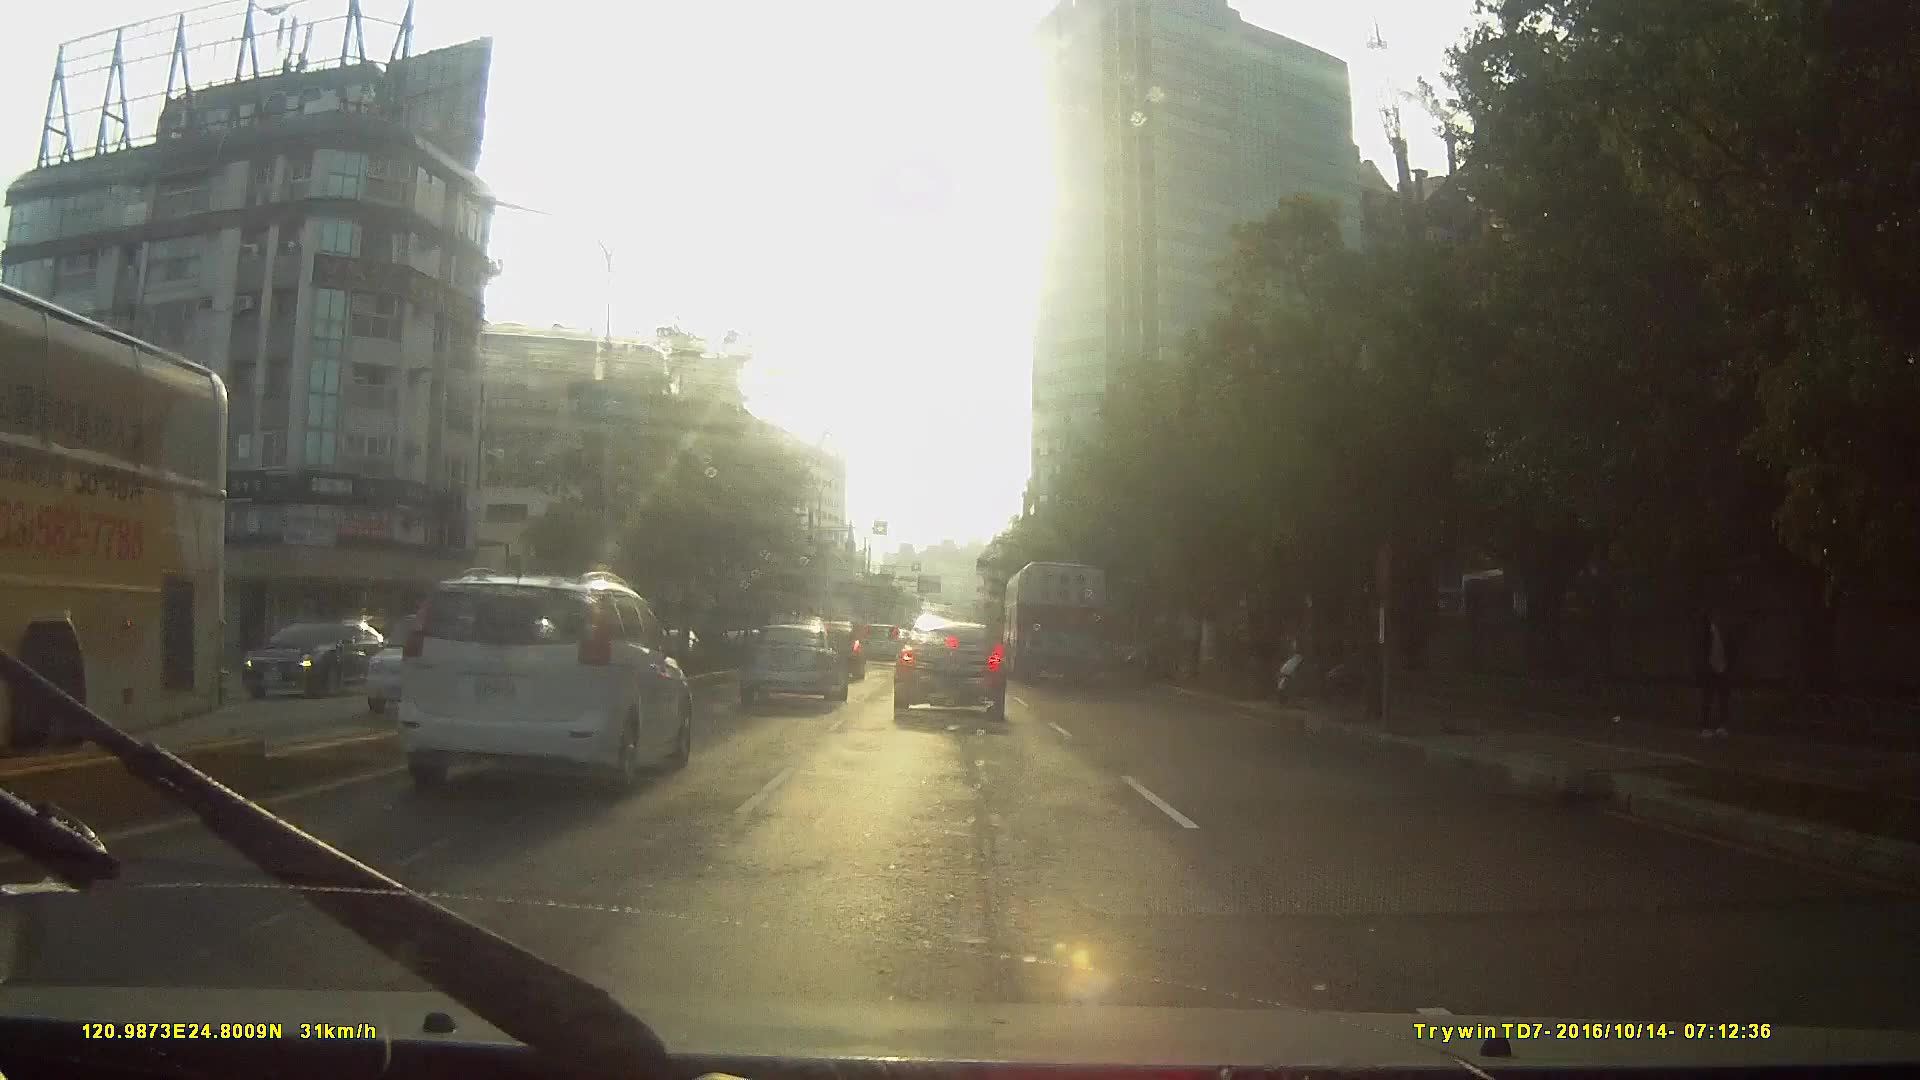pedestrian: (1670, 580, 1746, 744)
vehicle: (250, 556, 684, 868), (1, 284, 241, 813), (392, 567, 688, 793), (227, 614, 405, 702), (1003, 555, 1110, 683), (889, 612, 1005, 719), (734, 621, 843, 704), (853, 615, 902, 664)
